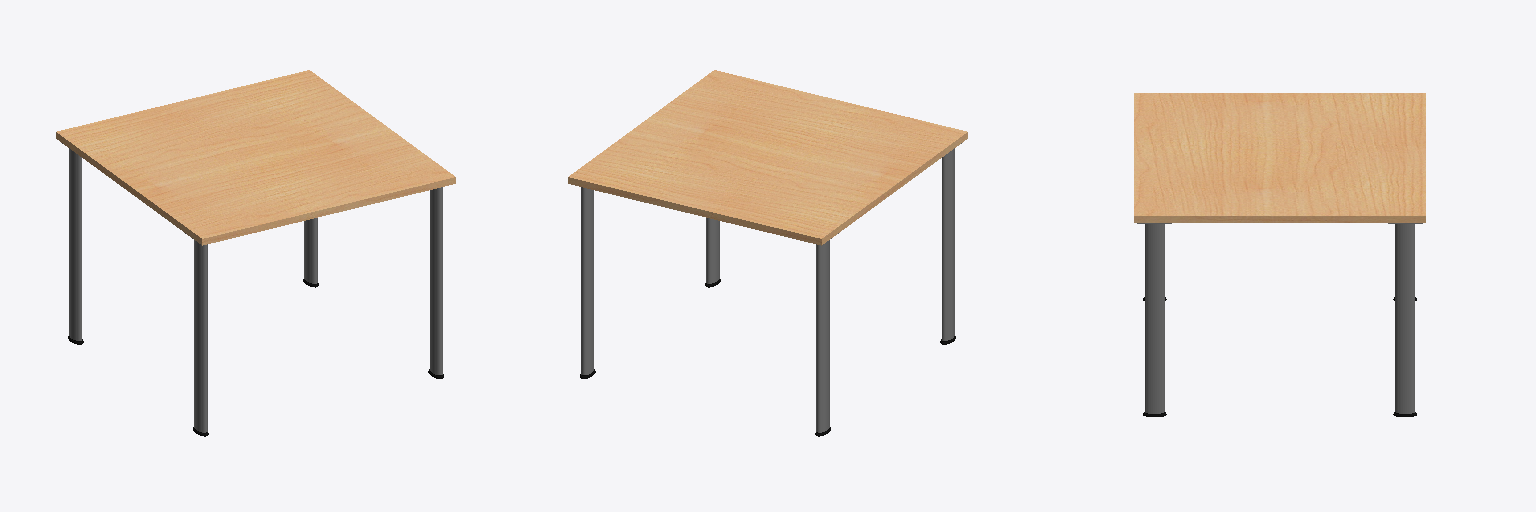
3 renders of one model, left to right at view 1: azimuth 30°, elevation 25°; view 2: azimuth 150°, elevation 25°; view 3: azimuth 270°, elevation 25°, orthographic.
Parts seen in each view (by area): view 1: 1, 2, 4, 8, 6; view 2: 1, 4, 2, 6, 8; view 3: 1, 6, 8.
Boxes of the visible parts, x1,y1,x2,y2 form: 1: [56, 70, 455, 245]; 2: [185, 233, 207, 432]; 4: [62, 143, 81, 340]; 8: [430, 187, 442, 374]; 6: [304, 218, 317, 283]; 1: [568, 70, 967, 245]; 4: [816, 233, 838, 432]; 2: [942, 143, 961, 340]; 6: [581, 187, 593, 374]; 8: [706, 218, 719, 283]; 1: [1134, 93, 1425, 222]; 6: [1388, 223, 1422, 413]; 8: [1137, 223, 1171, 413].
Size of the model in its own units: 100 by 76.5 by 100.
Materials: 3 (1 with a texture image).